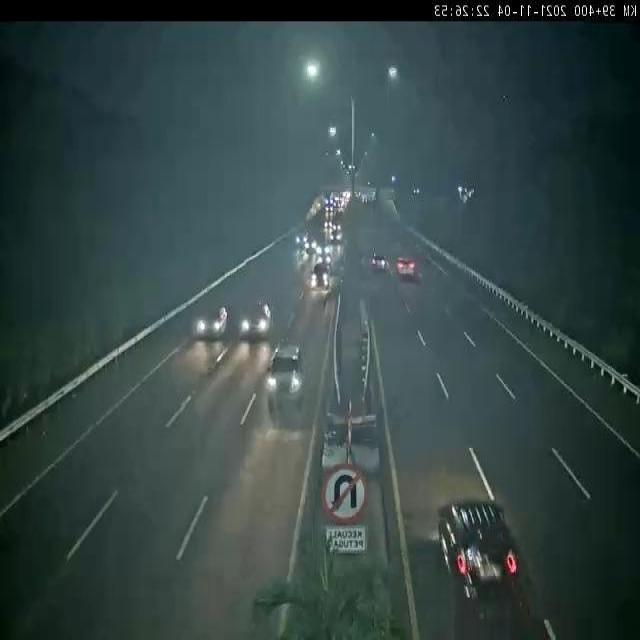Car: (444, 502, 531, 621), (260, 332, 315, 422), (192, 288, 238, 349), (239, 294, 279, 353), (308, 258, 334, 292), (394, 253, 422, 280), (369, 242, 390, 276)
